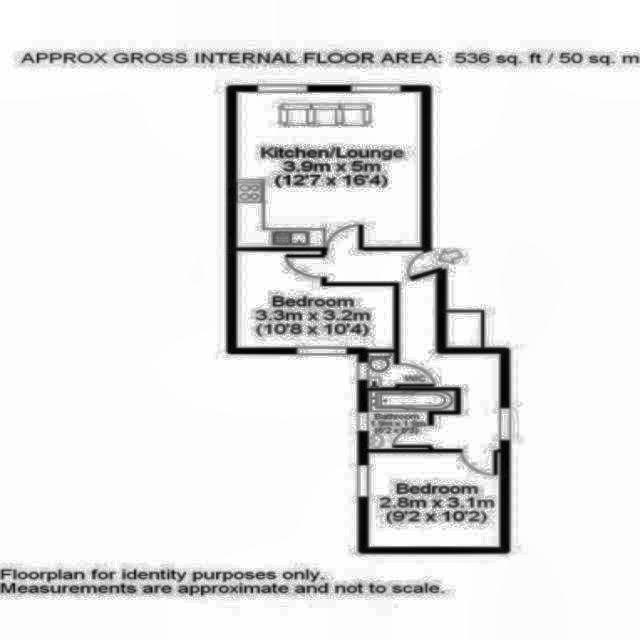room: (300, 204, 547, 482), (235, 92, 423, 249), (236, 251, 396, 348), (368, 452, 500, 548), (368, 390, 456, 450), (368, 352, 394, 388)
